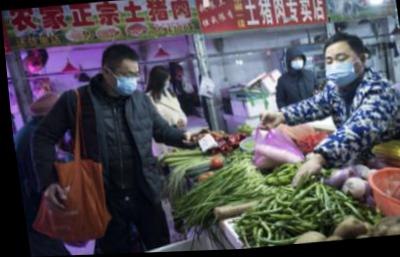OK: (322, 52, 357, 91), (110, 67, 142, 98), (288, 57, 305, 72)
WRONG: (161, 77, 171, 92)
